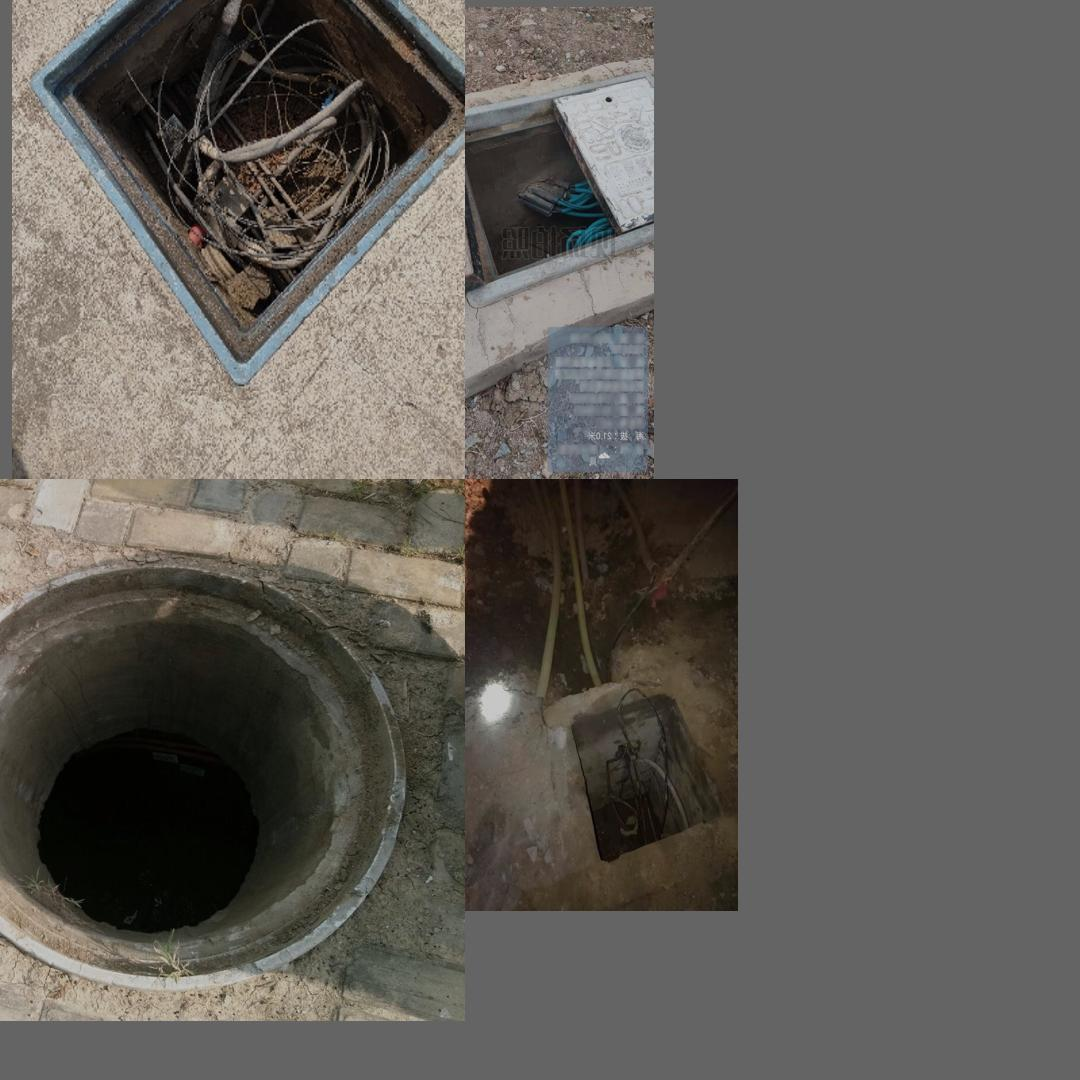lose: (0, 561, 404, 989), (28, 0, 463, 386), (465, 71, 653, 304), (554, 673, 724, 868)
